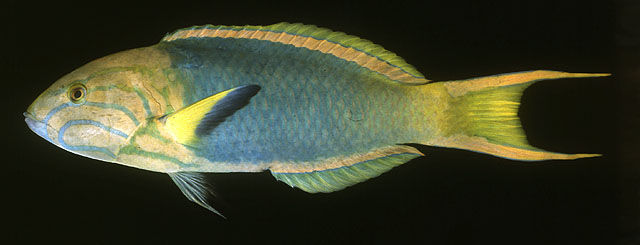fish: (22, 22, 611, 221)
